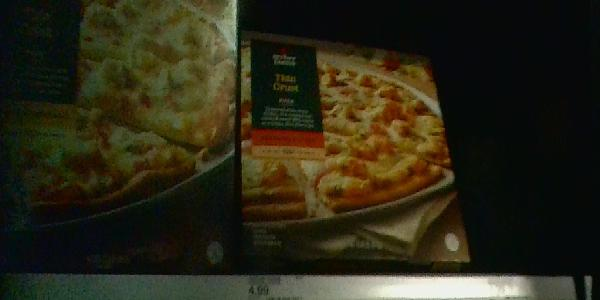pizza1: (1, 1, 239, 267), (237, 33, 477, 265)
